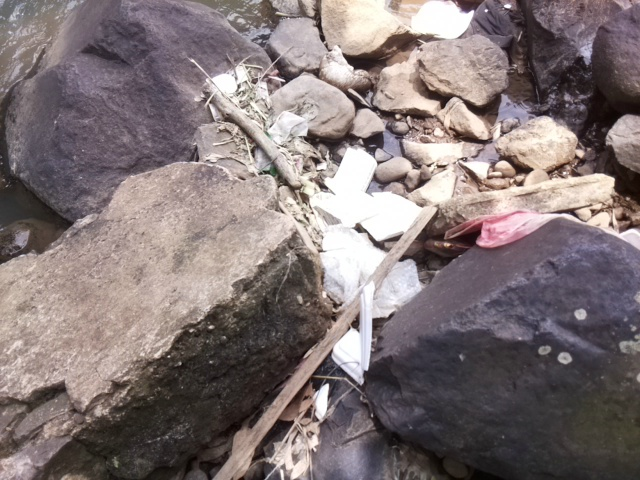Sampah_Plastik: (454, 215, 560, 246)
Sampah_Styrofoam: (307, 153, 419, 358), (407, 1, 476, 40)
